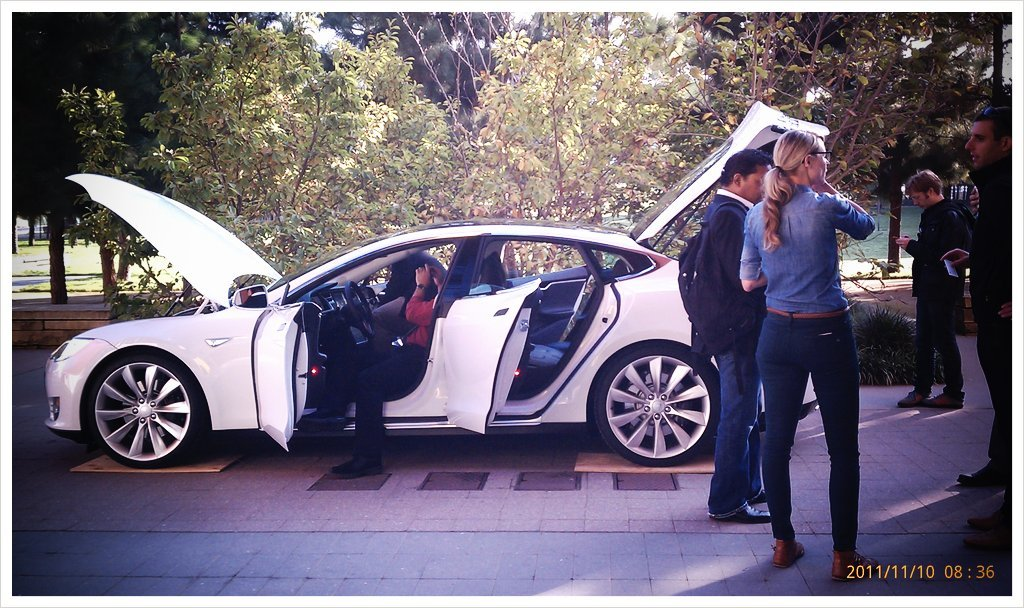Person: (327, 250, 508, 479), (707, 149, 773, 523), (963, 105, 1013, 551), (958, 186, 1010, 487)
